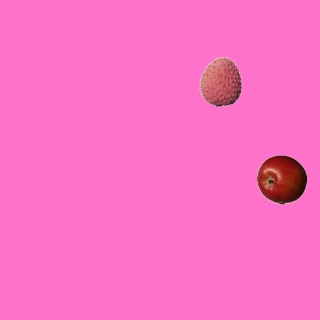Apple Braeburn: (256, 154, 306, 204)
Lychee: (195, 56, 245, 106)
